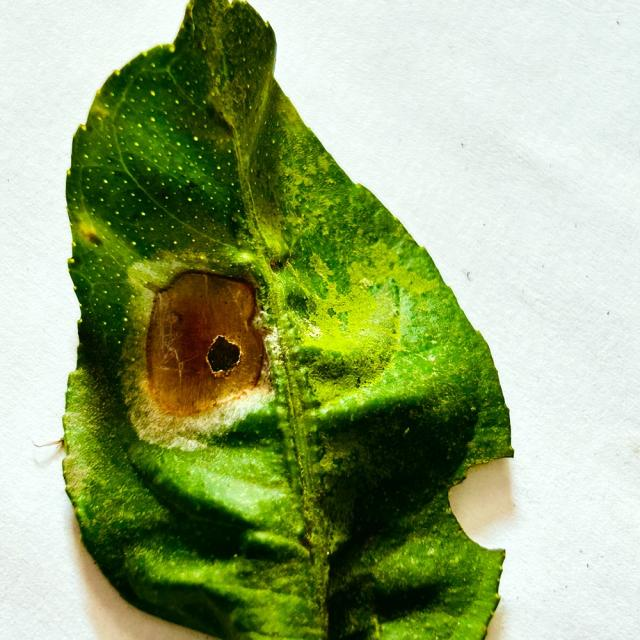Deficiency Leaf: (143, 273, 266, 433), (449, 458, 516, 549)
Lemon: (63, 0, 512, 639)
